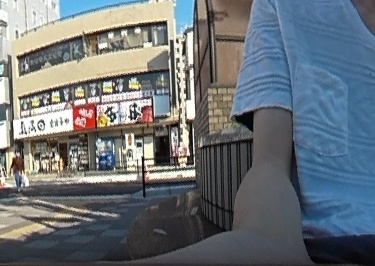person: (9, 148, 25, 190)
